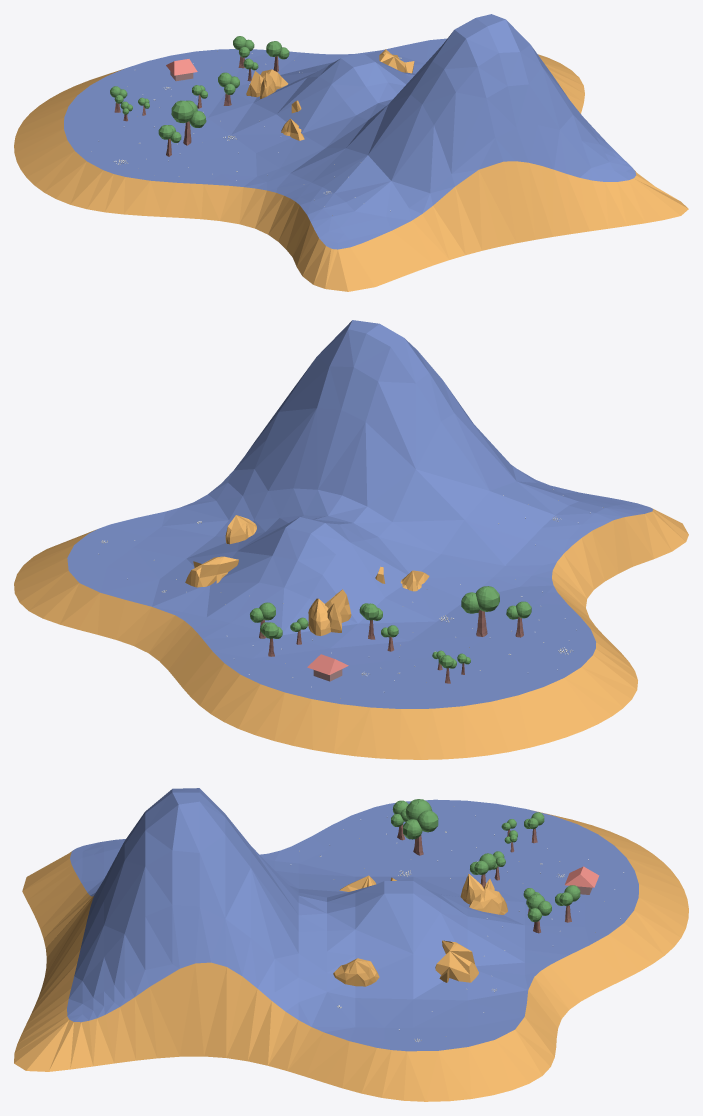
Rendered from island.glb.
3 renders of one model, top to bottom at view 1: azimuth 30°, elevation 25°; view 2: azimuth 150°, elevation 25°; view 3: azimuth 270°, elevation 25°, orthographic. The views are drawn at different scales.
Parts seen in each view (by area): view 1: base, Object_1, Object_3; view 2: base, Object_1, Object_3; view 3: base, Object_3, Object_1, Object_2.
Boxes of the visible parts, bbox=[...] form: base: bbox=[14, 14, 688, 291]; Object_1: bbox=[246, 69, 288, 98]; Object_3: bbox=[379, 49, 414, 73]; base: bbox=[14, 320, 688, 759]; Object_1: bbox=[308, 589, 351, 635]; Object_3: bbox=[185, 556, 238, 587]; base: bbox=[14, 788, 688, 1101]; Object_3: bbox=[435, 940, 478, 982]; Object_1: bbox=[460, 874, 507, 914]; Object_2: bbox=[333, 958, 379, 986].
Bounding box in the file's own units: 114 × 35.77 × 110.
